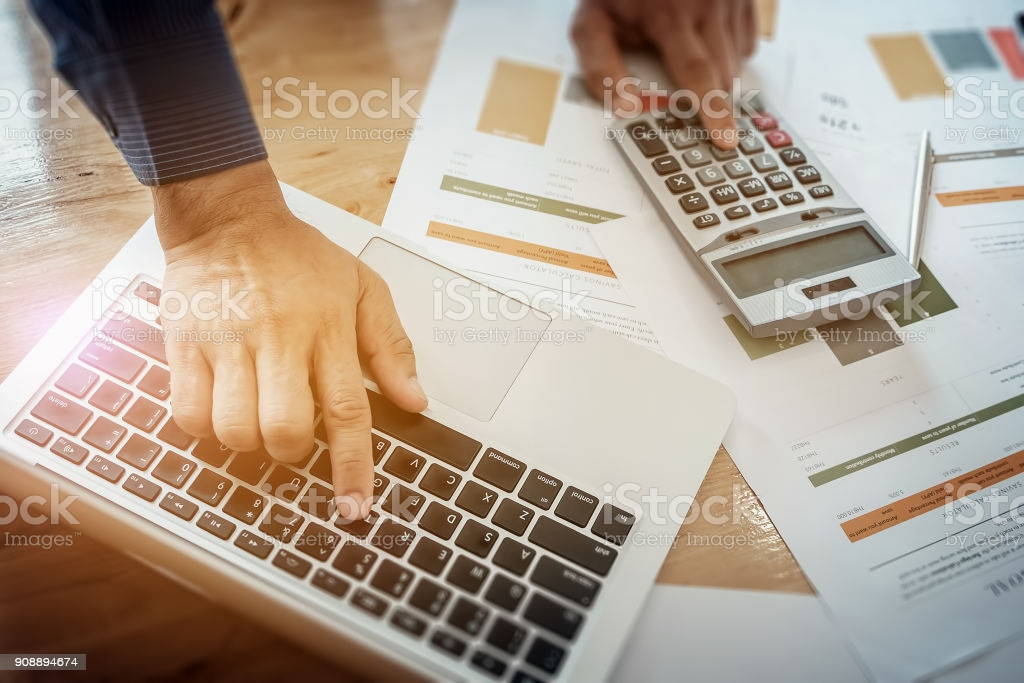Calculator: (604, 90, 929, 354)
